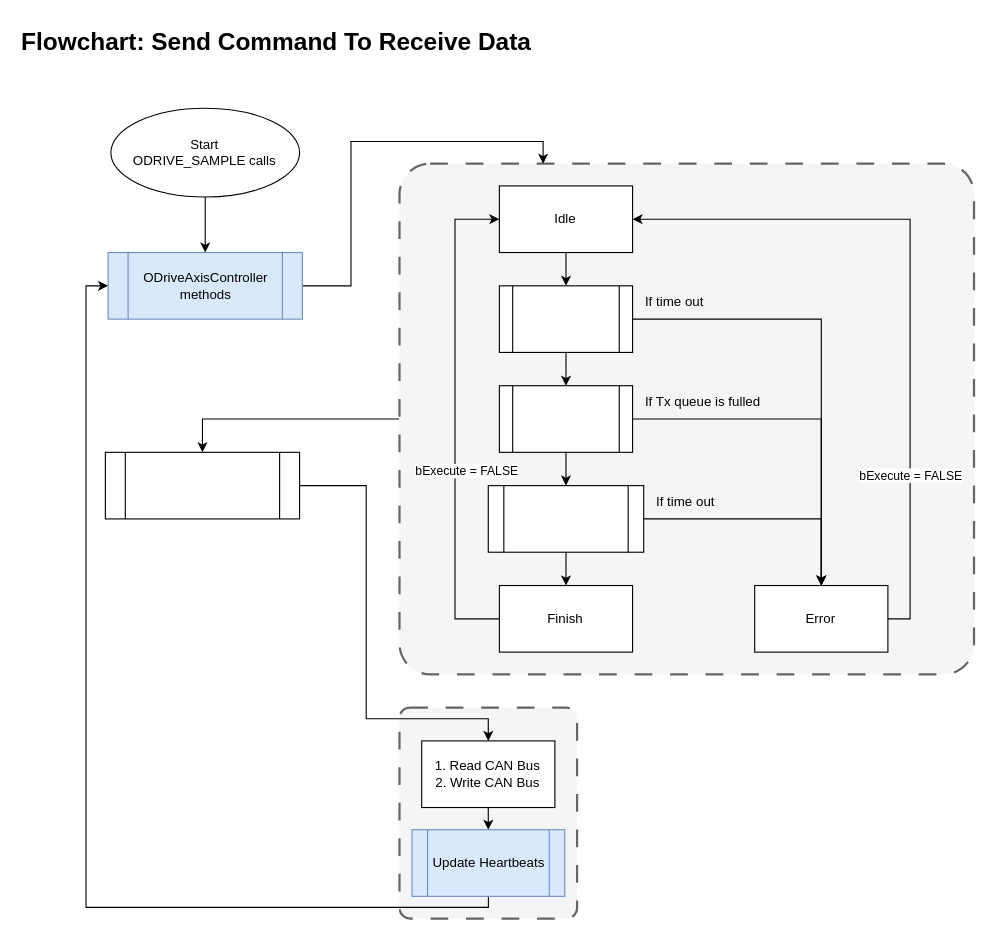
Some shapes in this 993 by 938 pixel diagram are drawn without their labels. The shapes that lost their labels are listed below. From the top down, each one's centre as x and y in pixels, then its label:
At (565,318): "Check Tx Ready".
At (565,418): "Add Cmd".
At (202,485): "ODriveAxisController FB cyclic update".
At (565,518): "1. Check Cmd Sent 2. Receive Data".
